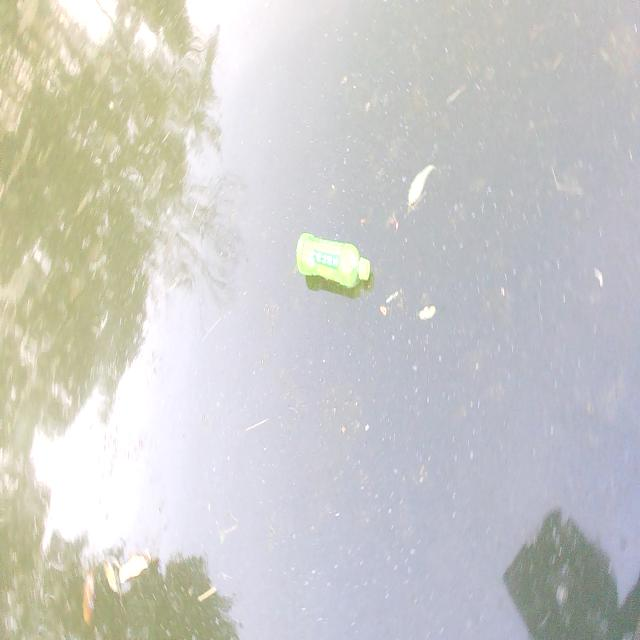bottle: (280, 228, 386, 294)
